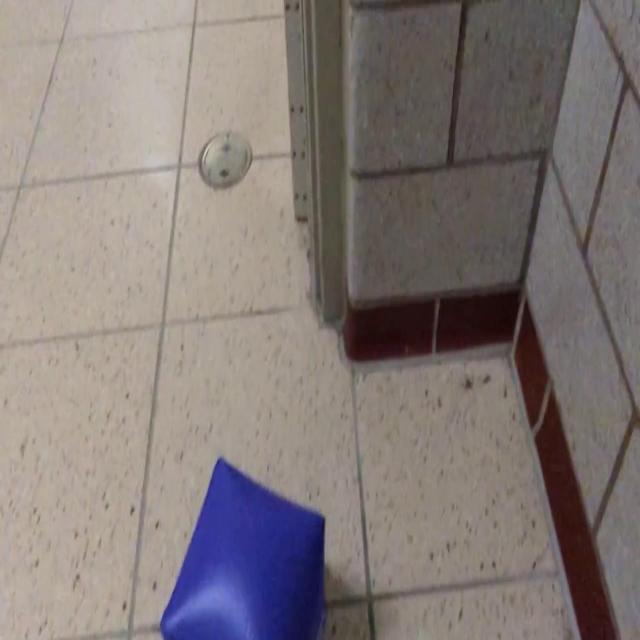frc_cube: (159, 457, 327, 640)
